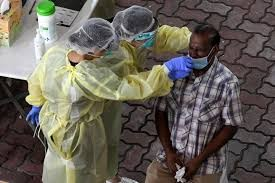Gloves: (165, 54, 193, 75)
mask_weared_incorrect: (187, 36, 210, 72)
